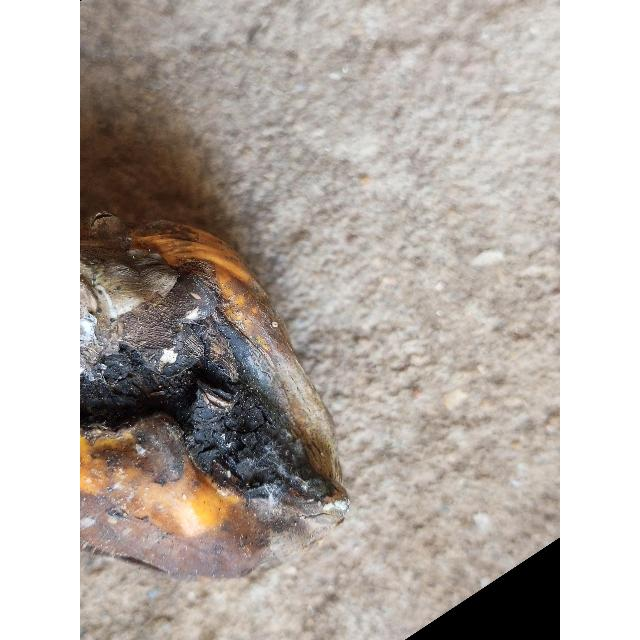damaged: (80, 214, 349, 581)
